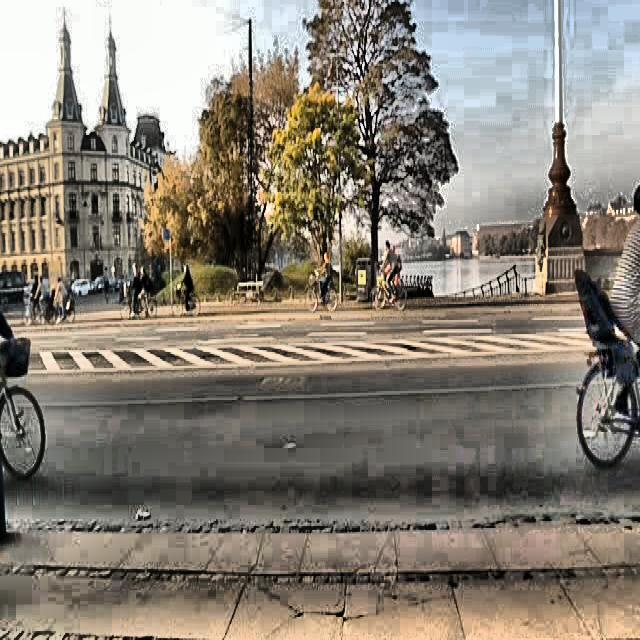bicycle: (572, 306, 640, 473), (0, 343, 51, 484)
